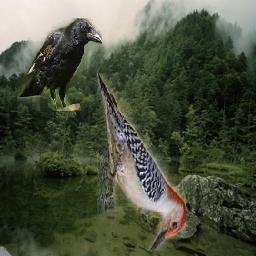Crow: (18, 19, 103, 112)
Woodpecker: (98, 73, 187, 251)
